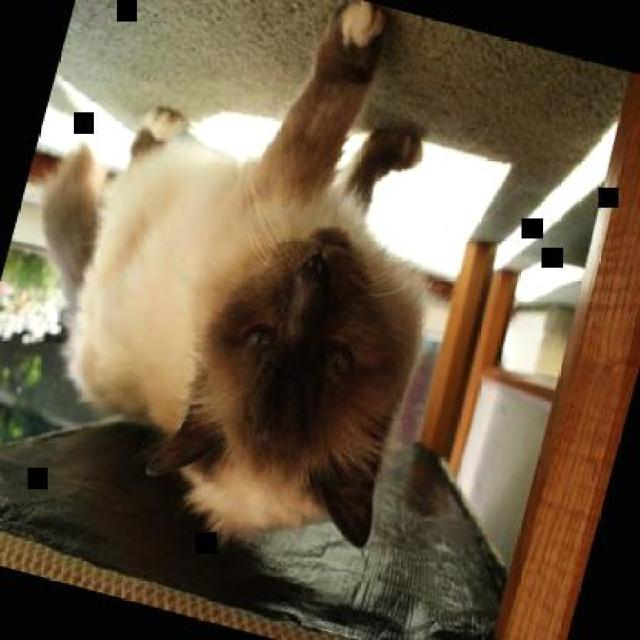cat: (0, 0, 503, 565)
